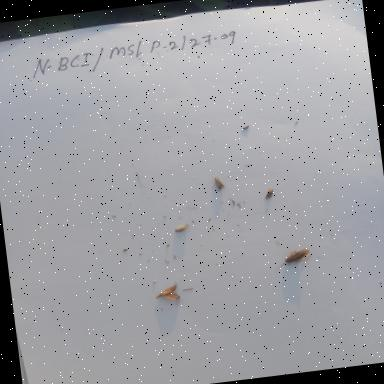pbw: (268, 243, 319, 275), (152, 280, 184, 304), (207, 172, 226, 194), (262, 186, 275, 200), (172, 222, 189, 232)
